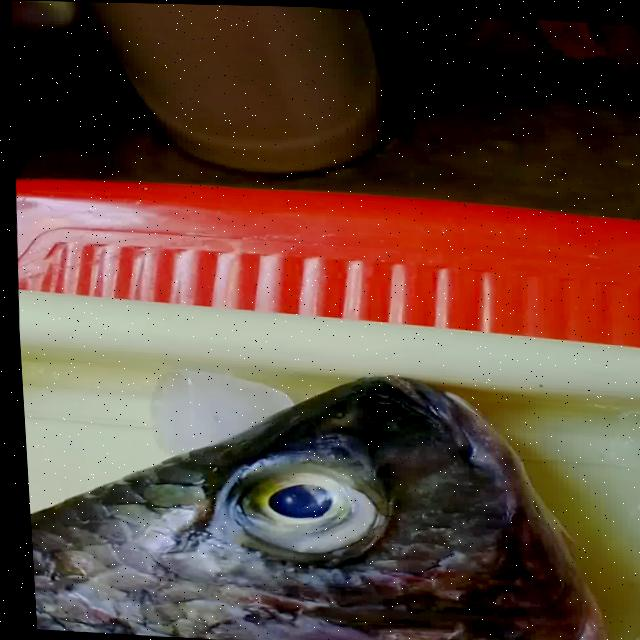Fresh: (184, 447, 410, 600)
